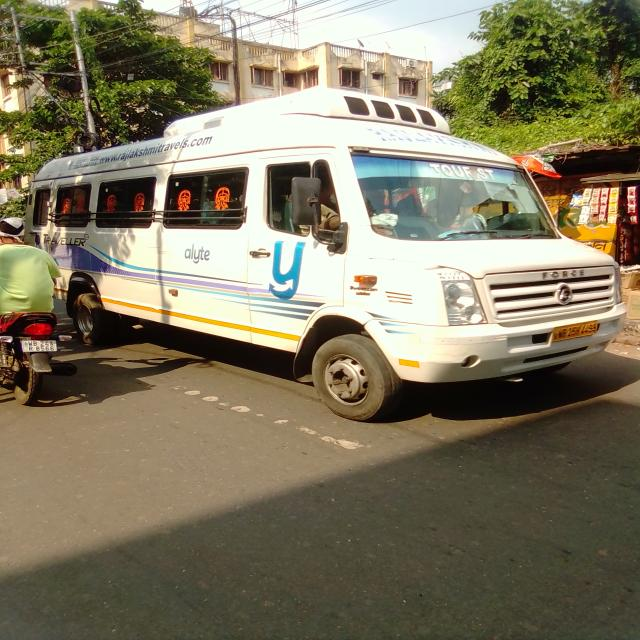Traveller: (27, 90, 627, 420)
